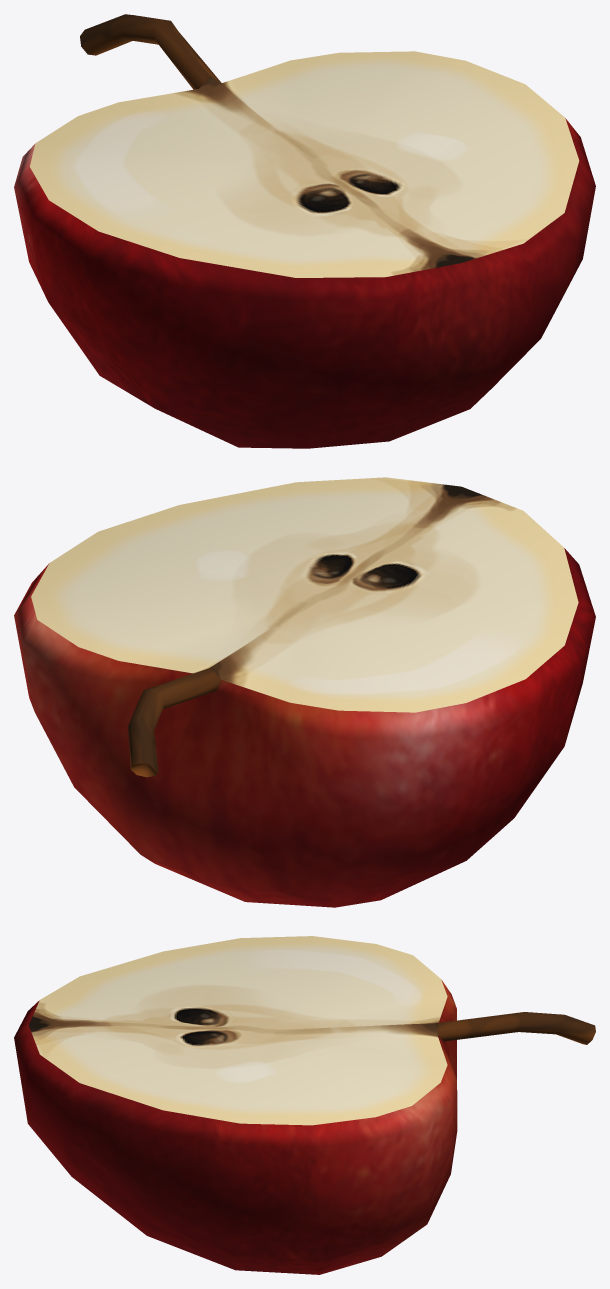
The model's file is 002-Apple_Half.FBX.
The picture shows the model from 3 angles, top to bottom: view 1: azimuth 30°, elevation 25°; view 2: azimuth 150°, elevation 25°; view 3: azimuth 270°, elevation 25°; orthographic projection. The views are drawn at different scales.
Visible parts, largest first — view 1: 002-Apple_Half; view 2: 002-Apple_Half; view 3: 002-Apple_Half.
Boxes of the visible parts, x1,y1,x2,y2 form: 002-Apple_Half: (14,14,595,448); 002-Apple_Half: (14,477,595,907); 002-Apple_Half: (14,936,595,1274).
Size of the model in its own units: 10.84 by 6.12 by 13.35.
